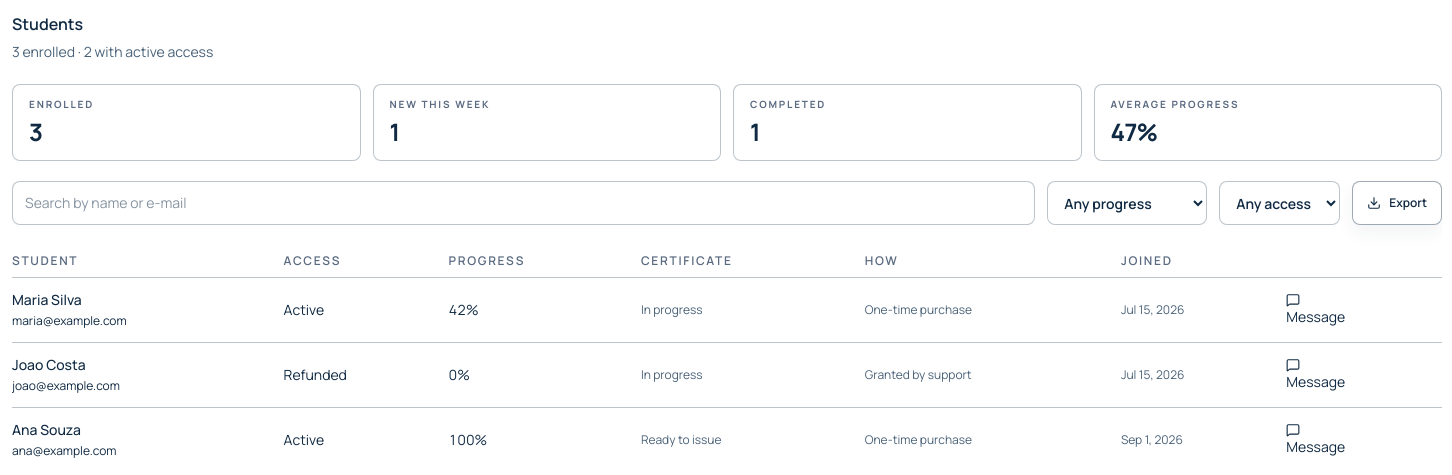
CourseStudentRosterView › finds one person by name or e-mail in a roster too long to scan
The width and height of the screenshot is (1452, 475).
Type "joao@" into the search field named "Search students" at (524, 203), box [12,181,1035,225]
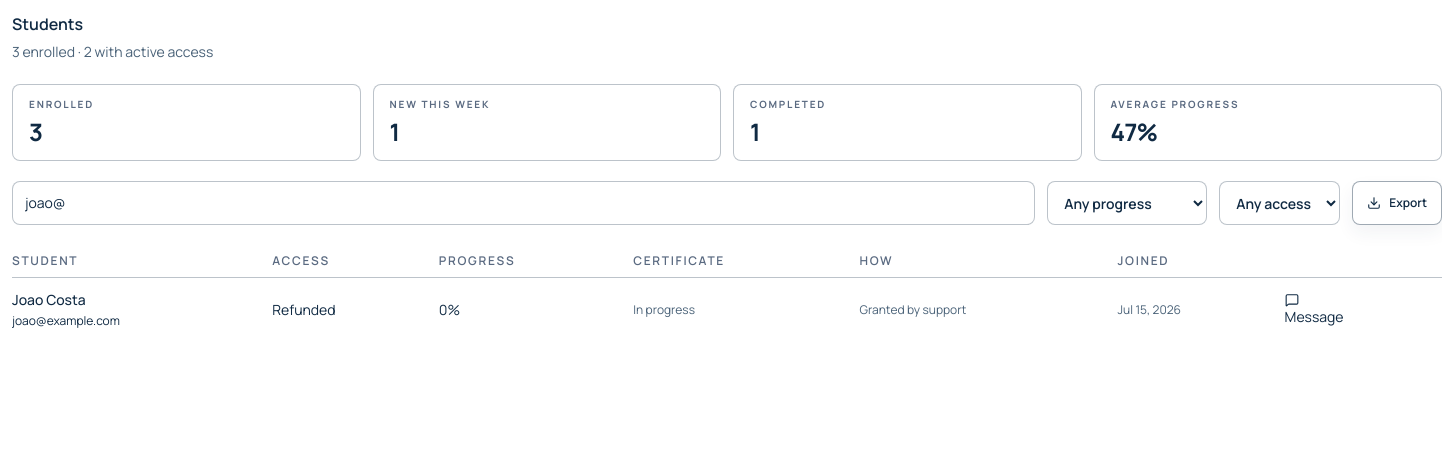
Expected: the text "Joao Costa" is shown, [12,290,86,309]
Now the text "Maria Silva" is gone
Now the text "Ana Souza" is gone
